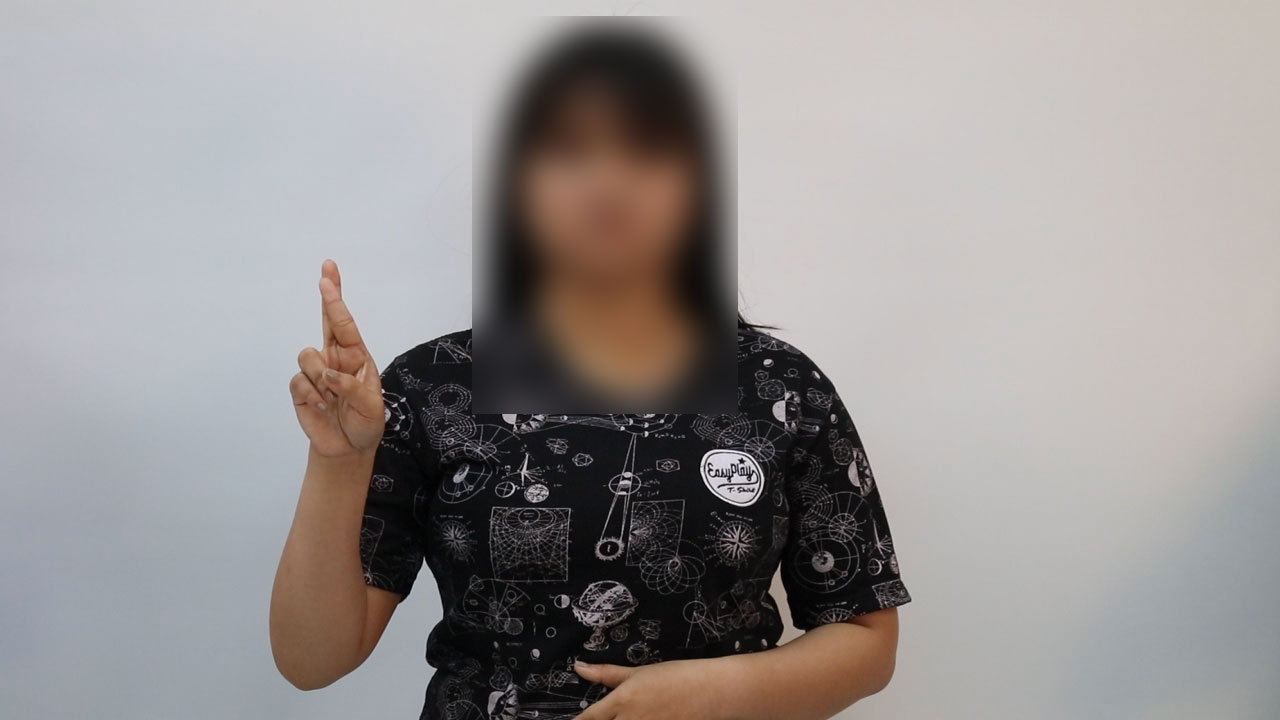rao: (273, 254, 399, 462)
